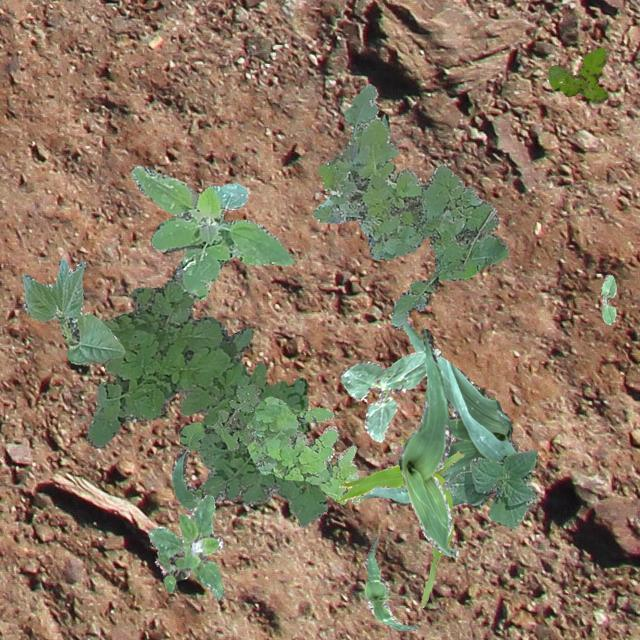crop: (362, 318, 516, 504), (337, 438, 462, 606), (397, 328, 458, 556), (20, 258, 124, 364), (338, 348, 440, 440), (442, 448, 536, 528), (363, 536, 418, 630), (170, 448, 223, 512), (380, 112, 396, 178), (600, 274, 616, 324)
weed: (85, 264, 326, 526), (312, 82, 508, 328), (130, 164, 292, 300), (244, 396, 366, 504), (148, 494, 225, 598), (178, 382, 260, 450), (548, 46, 608, 102)
